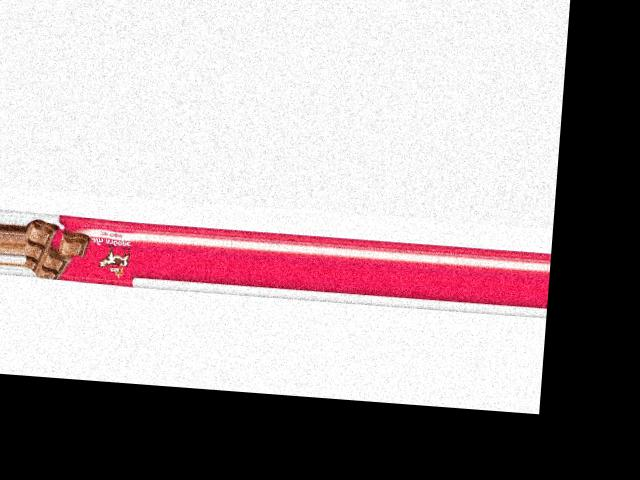chocolate: (24, 213, 139, 286)
